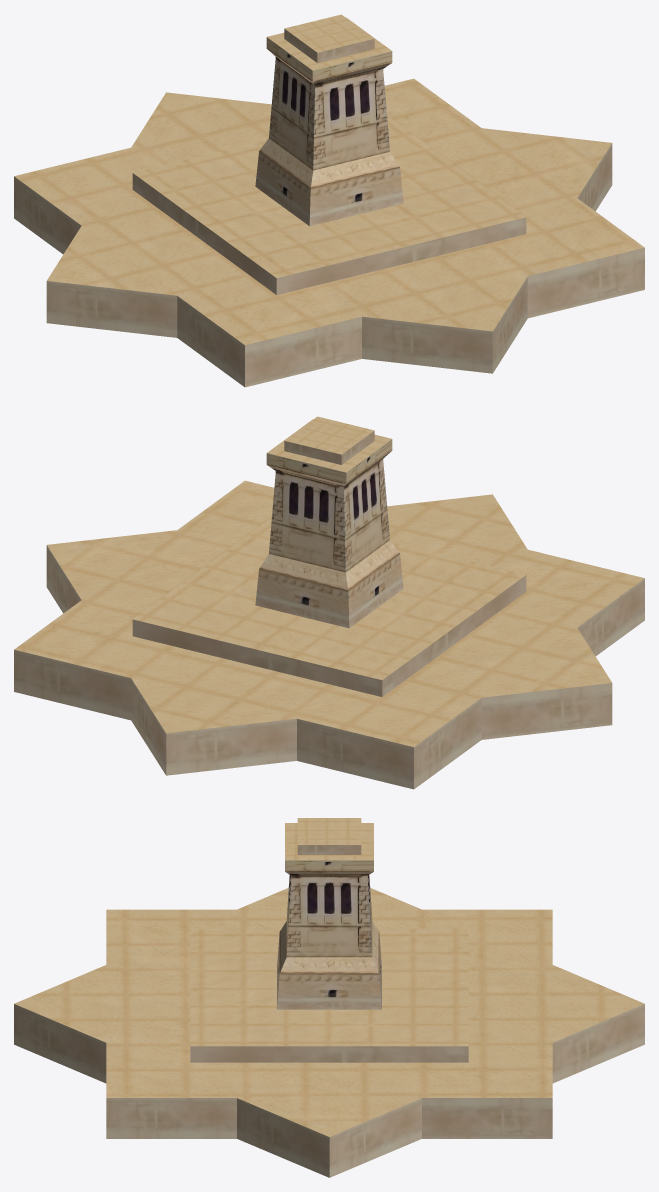
Rendered from StatueFoundation.fbx.
3 views of the same model, one above another, from view 1: azimuth 30°, elevation 25°; view 2: azimuth 150°, elevation 25°; view 3: azimuth 270°, elevation 25° (orthographic). The views are drawn at different scales.
Parts seen in each view (by area): view 1: StatueFoundation; view 2: StatueFoundation; view 3: StatueFoundation.
Part boxes in pixels (bbox=[...]): StatueFoundation: bbox=[14, 14, 644, 387]; StatueFoundation: bbox=[14, 416, 644, 789]; StatueFoundation: bbox=[14, 818, 644, 1177].
Size of the model in its own units: 4615 by 1719 by 4615.
Materials: 1 (1 with a texture image).
